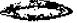Mouth: (1, 1, 74, 20)
